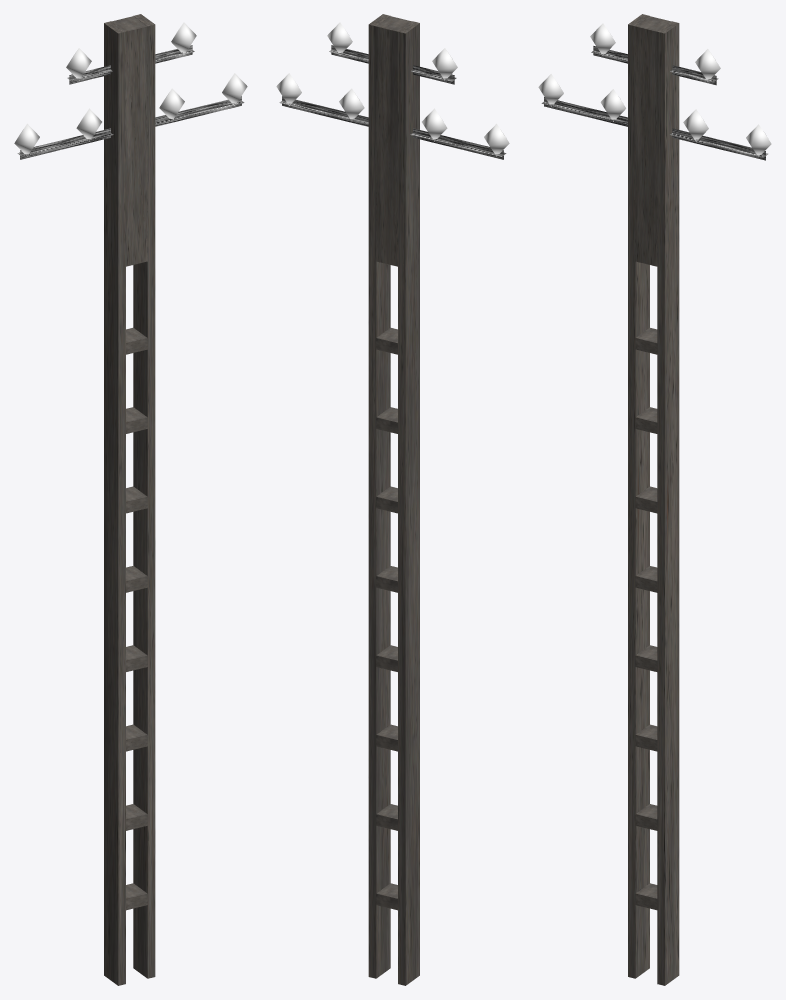
The picture shows the model from 3 angles, left to right: view 1: azimuth 30°, elevation 25°; view 2: azimuth 150°, elevation 25°; view 3: azimuth 330°, elevation 25°; orthographic projection.
Visible parts, largest first — view 1: MeshInstance3D2_1, Pole_0, MeshInstance3D11_10, MeshInstance3D_11, MeshInstance3D12_12, MeshInstance3D122_17; view 2: MeshInstance3D2_1, Pole_0, MeshInstance3D11_10, MeshInstance3D_11, MeshInstance3D12_12, MeshInstance3D122_17; view 3: Pole_0, MeshInstance3D2_1, MeshInstance3D11_10, MeshInstance3D_11, MeshInstance3D122_17, MeshInstance3D12_12.
Boxes of the visible parts, bbox=[...] form: MeshInstance3D2_1: bbox=[104, 21, 125, 985]; Pole_0: bbox=[133, 14, 155, 978]; MeshInstance3D11_10: bbox=[112, 16, 147, 266]; MeshInstance3D_11: bbox=[20, 96, 241, 159]; MeshInstance3D12_12: bbox=[17, 101, 244, 156]; MeshInstance3D122_17: bbox=[69, 45, 192, 84]; MeshInstance3D2_1: bbox=[398, 21, 419, 985]; Pole_0: bbox=[368, 14, 390, 978]; MeshInstance3D11_10: bbox=[376, 16, 411, 266]; MeshInstance3D_11: bbox=[282, 96, 503, 159]; MeshInstance3D12_12: bbox=[279, 101, 506, 156]; MeshInstance3D122_17: bbox=[331, 45, 454, 84]; Pole_0: bbox=[657, 21, 679, 985]; MeshInstance3D2_1: bbox=[628, 14, 649, 978]; MeshInstance3D11_10: bbox=[635, 16, 670, 266]; MeshInstance3D_11: bbox=[544, 97, 765, 160]; MeshInstance3D122_17: bbox=[593, 46, 716, 85]; MeshInstance3D12_12: bbox=[541, 101, 767, 157].
Bounding box in the file's own units: 3.08 × 12 × 0.342.
Materials: 8 (2 with a texture image).
